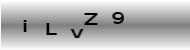9: (111, 11, 124, 24)
L: (45, 22, 57, 36)
Z: (82, 12, 98, 26)
i: (22, 19, 27, 33)
v: (69, 27, 83, 39)
